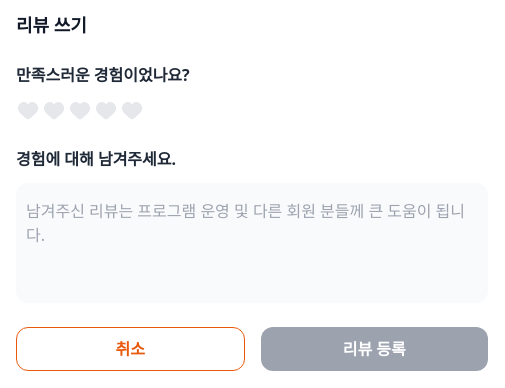
Scenario: Review modal test › 버튼 활성화 테스트
This screenshot has width=505, height=388.
Step 1. Click the 1st icon named "emptyHeart" → (28, 111), box [16, 99, 40, 123]
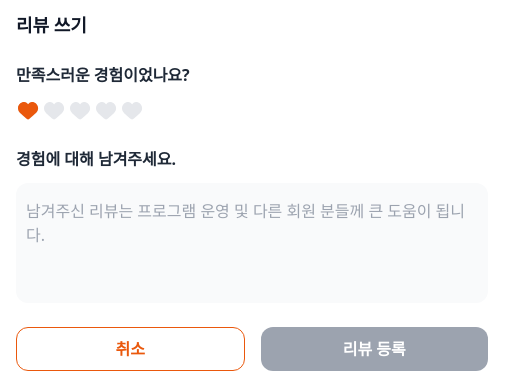
Expected: the button "리뷰 등록" is disabled, [260, 327, 488, 371]
Step 2. Type "test" into the text box with placeholder "남겨주신 리뷰는 프로그램 운영 및 다른 회원 분들께 큰 도움이 됩니다." → (252, 243), box [16, 183, 488, 303]
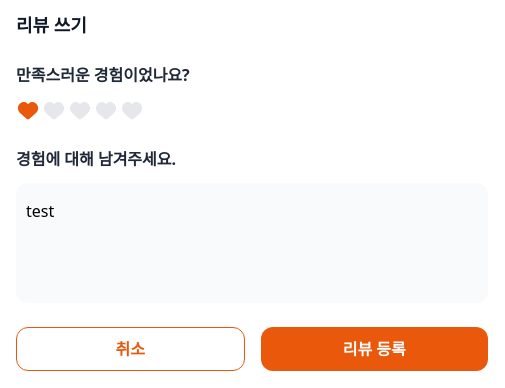
Now the button "리뷰 등록" is enabled, box [260, 327, 488, 371]
